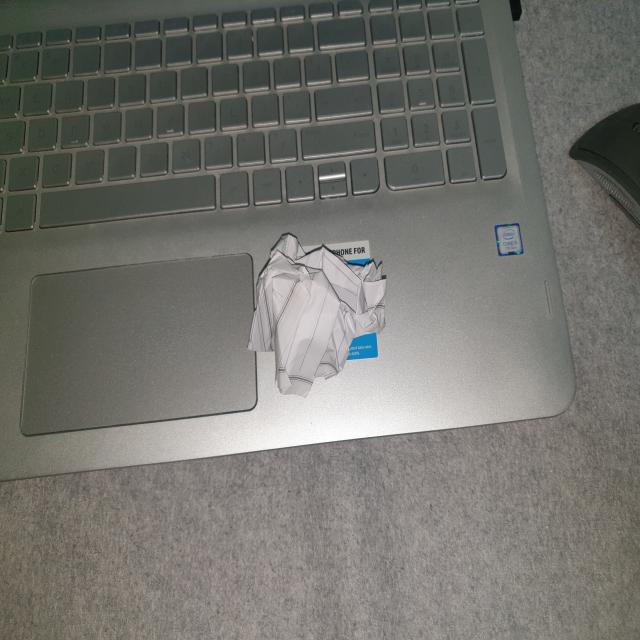Paper: (248, 233, 386, 397)
